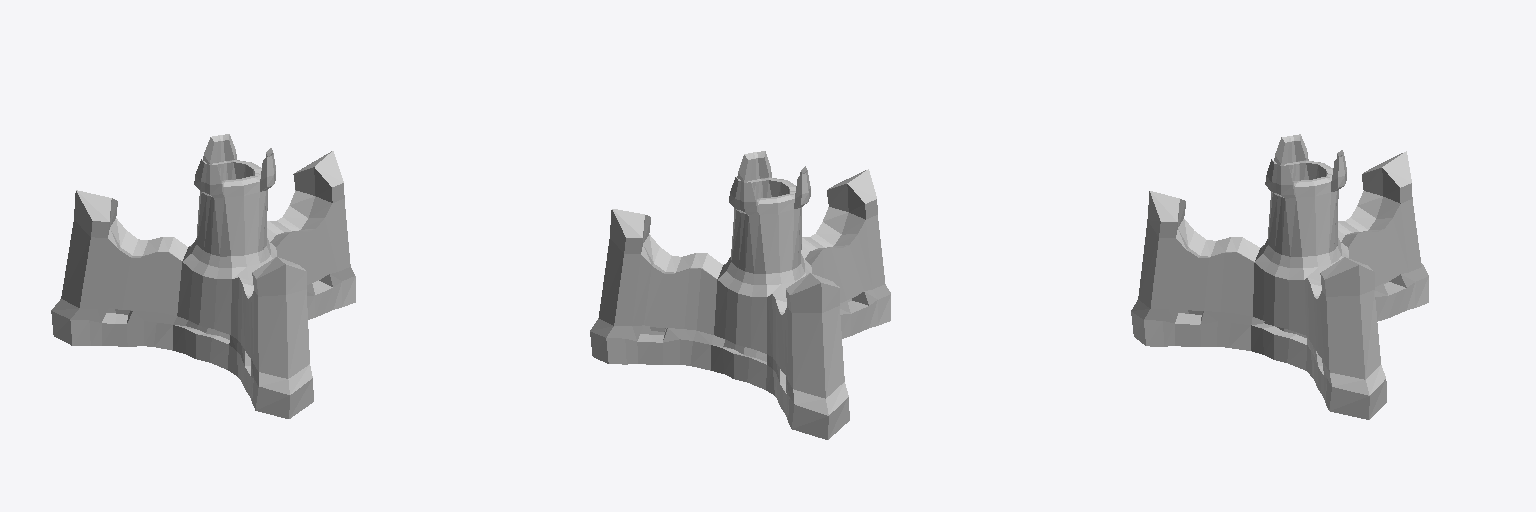
File: Interphase Transmitter.obj
3 renders of one model, left to right at view 1: azimuth 30°, elevation 25°; view 2: azimuth 150°, elevation 25°; view 3: azimuth 270°, elevation 25°, orthographic.
Visible parts, largest first — view 1: pCylinder7; view 2: pCylinder7; view 3: pCylinder7.
Boxes of the visible parts, x1,y1,x2,y2 form: pCylinder7: [51, 134, 355, 418]; pCylinder7: [590, 151, 890, 439]; pCylinder7: [1131, 134, 1428, 419].
Bounding box in the file's own units: 11.67 × 8.4 × 11.32.